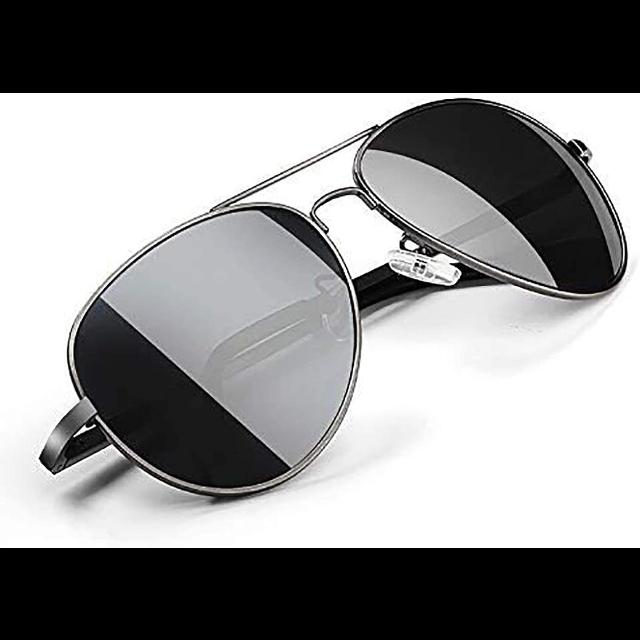Sunglasses: (34, 96, 634, 512)
